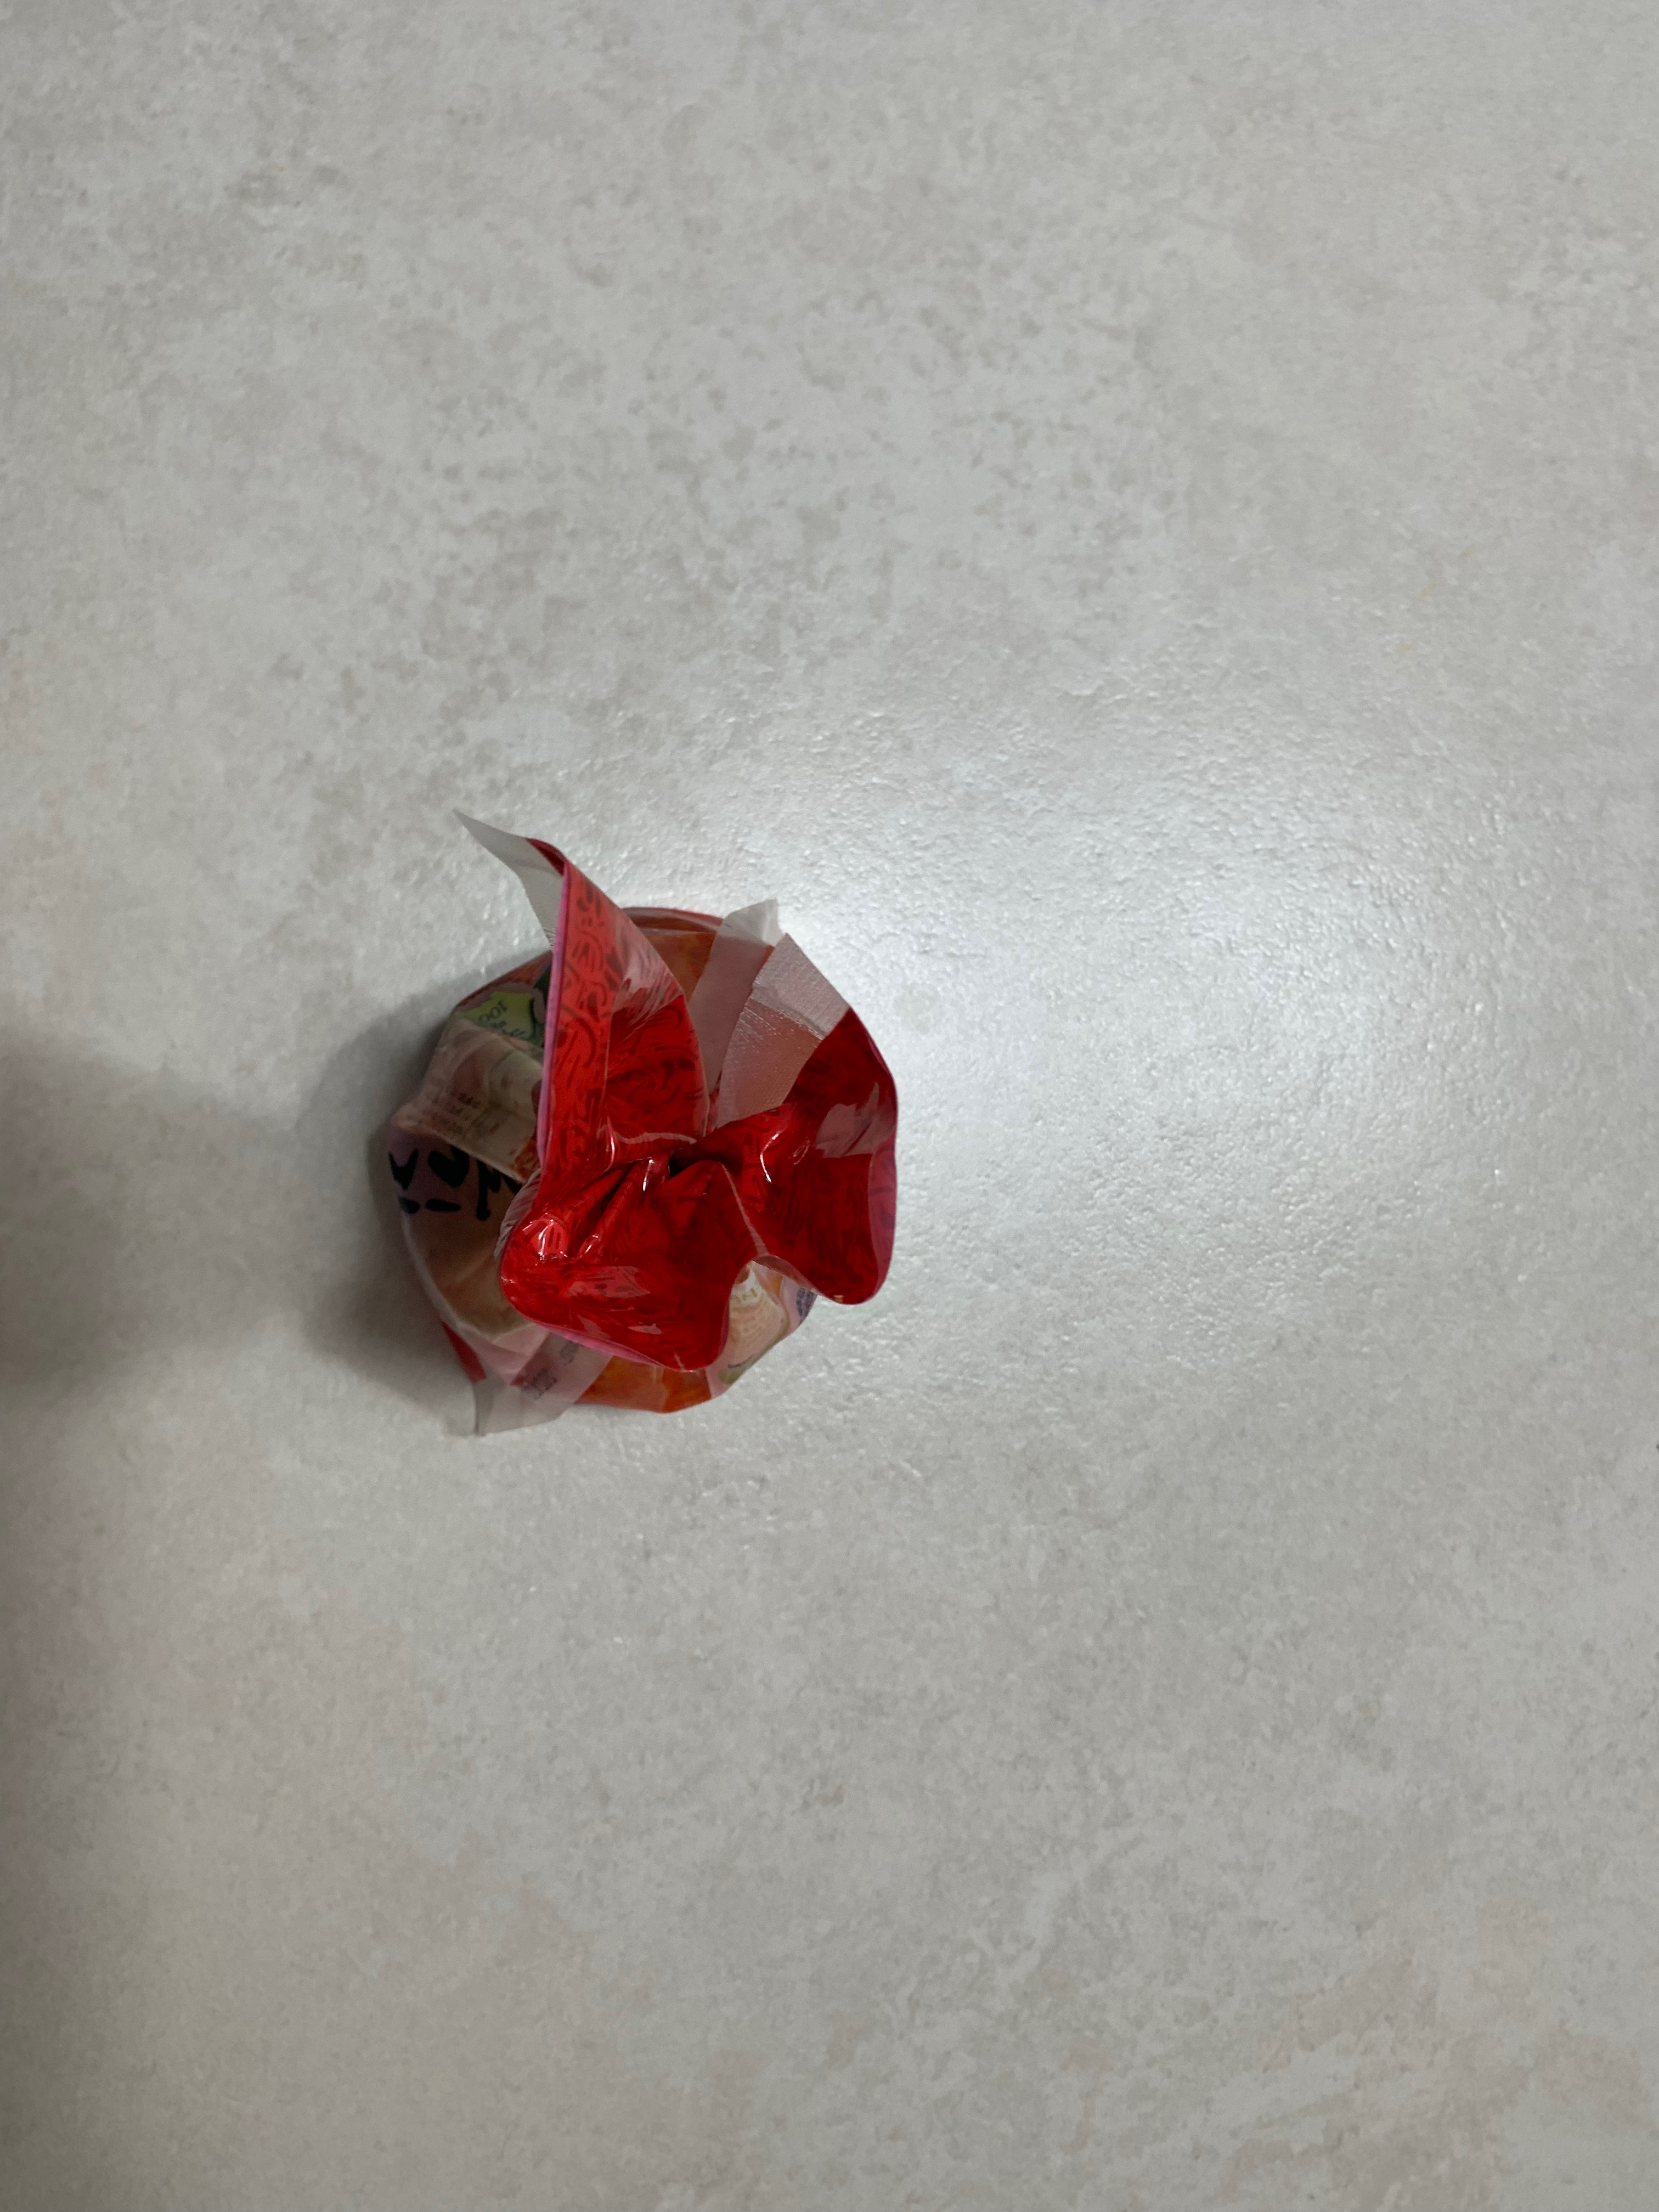kimchi: (376, 815, 903, 1435)
